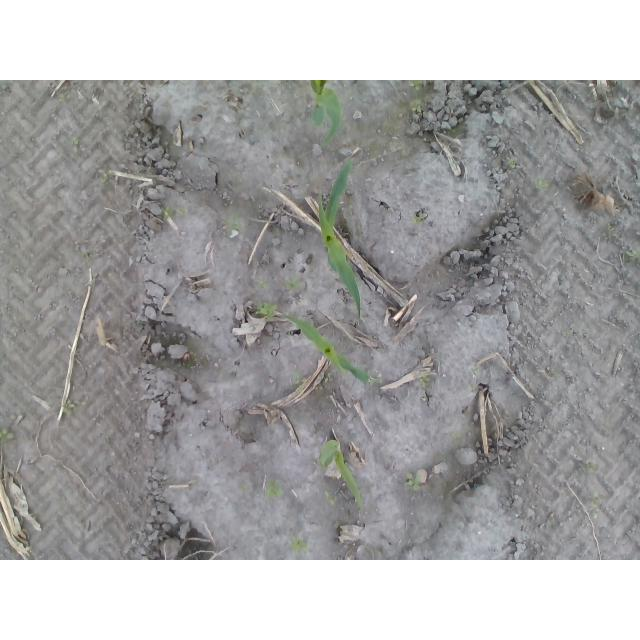Maize: (271, 313, 383, 383), (319, 157, 362, 321), (317, 438, 363, 510), (310, 80, 343, 148)
Weeds: (263, 477, 286, 499), (255, 301, 277, 323), (223, 216, 246, 237), (404, 473, 422, 492), (291, 538, 310, 555), (293, 372, 308, 393), (285, 276, 304, 290), (602, 224, 618, 240), (625, 246, 640, 262), (62, 400, 76, 416), (580, 459, 596, 473), (533, 177, 549, 191), (0, 429, 14, 443), (411, 213, 425, 227), (409, 98, 423, 112), (161, 205, 174, 219), (70, 136, 80, 153), (591, 492, 602, 507), (100, 171, 116, 181), (506, 156, 518, 169), (419, 375, 431, 388), (324, 491, 335, 505), (409, 81, 423, 92), (59, 93, 74, 103), (176, 206, 188, 214), (258, 279, 268, 288), (470, 366, 480, 375), (550, 370, 560, 378), (324, 373, 332, 383)
